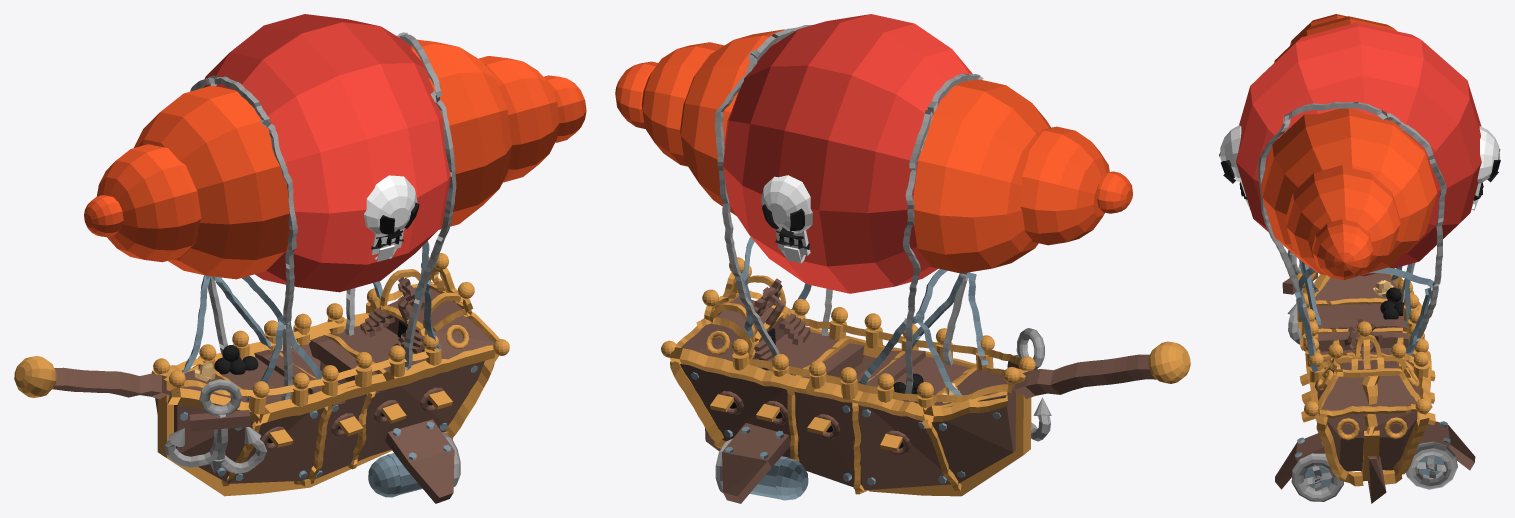
Rendered from pirateShipFlyingModel_alone_zeroed.obj.
The picture shows the model from 3 angles, left to right: view 1: azimuth 30°, elevation 25°; view 2: azimuth 150°, elevation 25°; view 3: azimuth 270°, elevation 25°; orthographic projection. The views are drawn at different scales.
Visible parts, largest first — view 1: pirateShipFlyingModel_alone_zeroed; view 2: pirateShipFlyingModel_alone_zeroed; view 3: pirateShipFlyingModel_alone_zeroed.
Part boxes in pixels (<box>): pirateShipFlyingModel_alone_zeroed: <box>14,14,586,503</box>; pirateShipFlyingModel_alone_zeroed: <box>615,14,1190,503</box>; pirateShipFlyingModel_alone_zeroed: <box>1219,14,1500,503</box>.
Size of the model in its own units: 1.99 by 1.57 by 0.9486.
